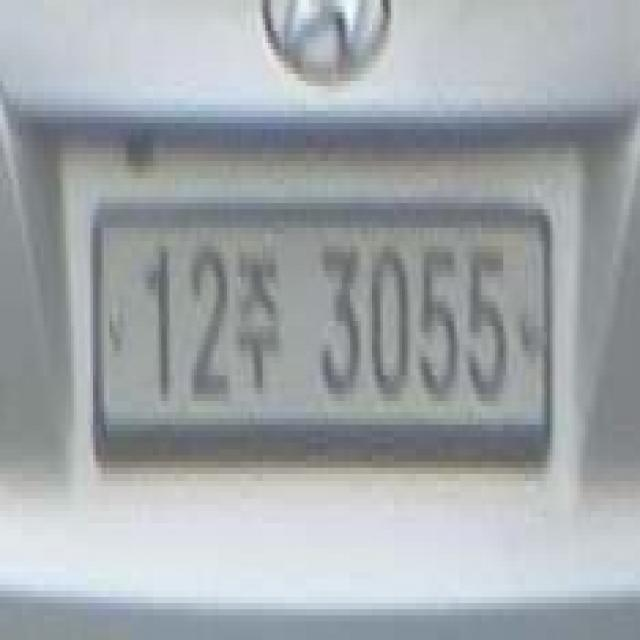0: (366, 234, 413, 418)
1: (140, 222, 183, 424)
2: (184, 227, 232, 418)
3: (312, 234, 366, 412)
5: (462, 234, 517, 418), (416, 233, 462, 424)
ju: (233, 234, 287, 412)
license_plate: (85, 191, 558, 474)
